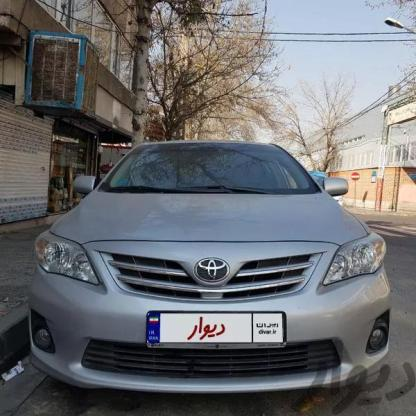Car: (33, 124, 404, 414)
